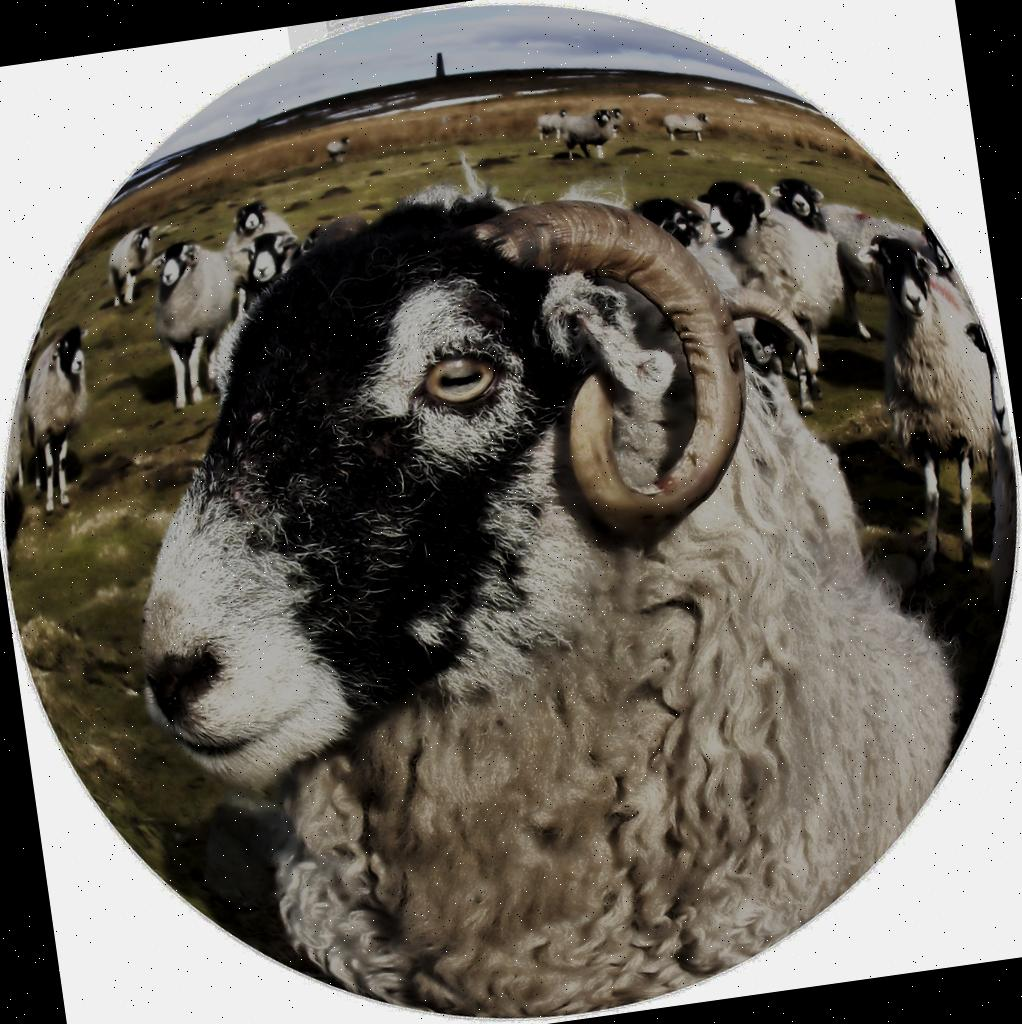Sheep: (71, 64, 937, 1024), (845, 210, 1019, 568), (670, 118, 862, 429), (0, 299, 125, 544), (152, 228, 252, 432)
